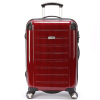luggage: (23, 2, 81, 99)
